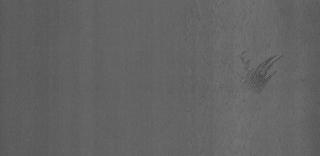water spot: (237, 47, 287, 95)
